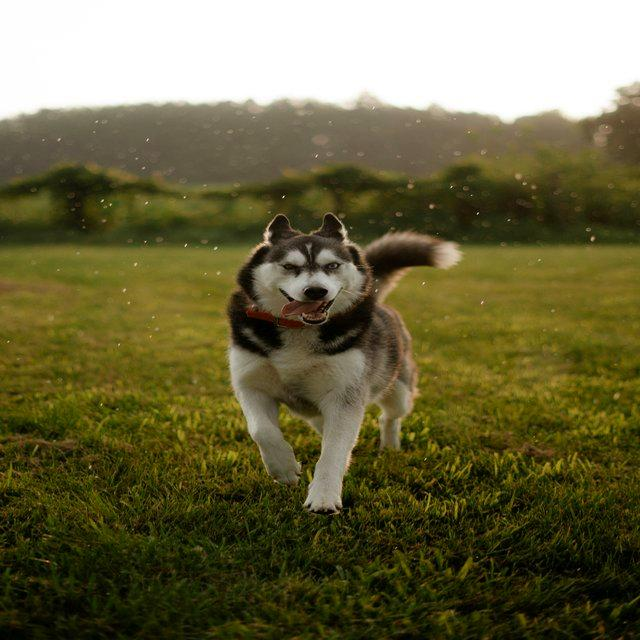husky: (225, 210, 463, 515)
